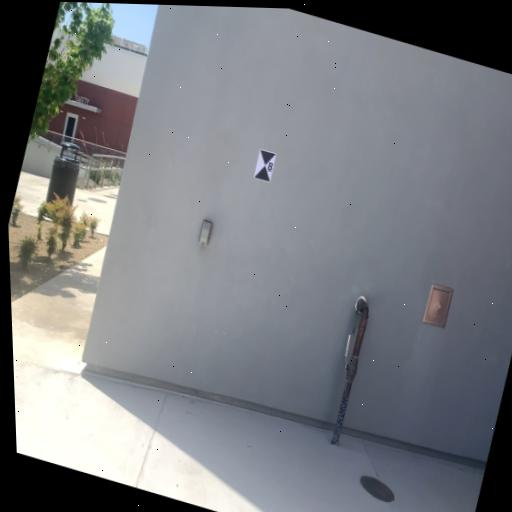target8: (251, 147, 279, 184)
